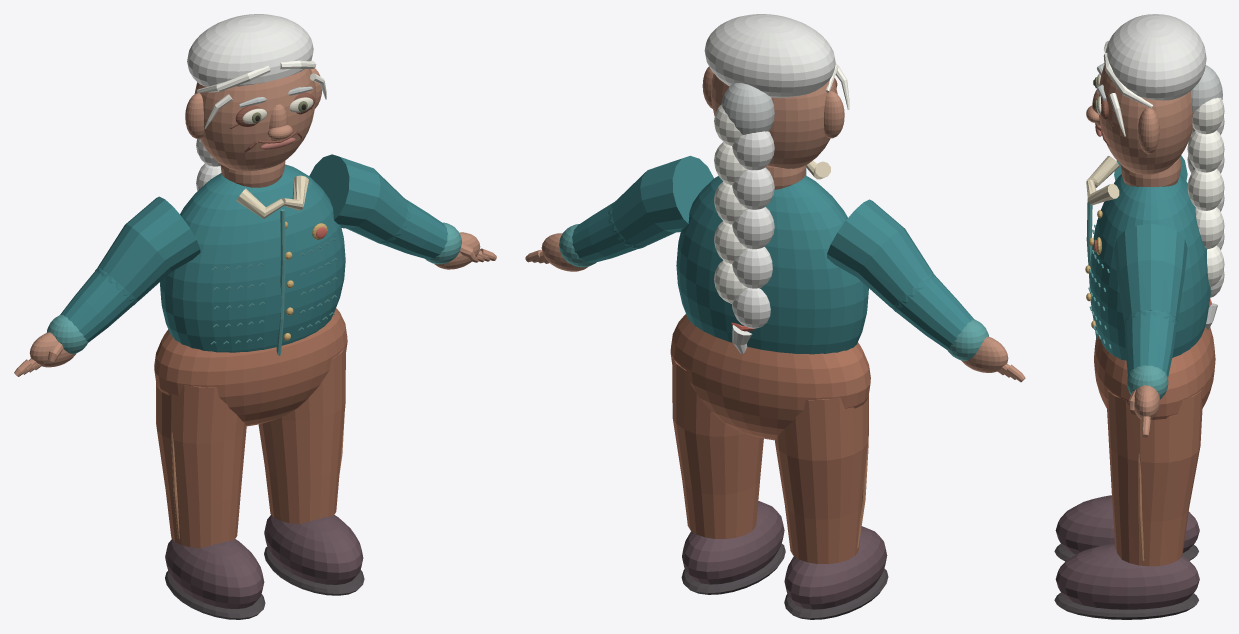
3 views of the same model, side by side, from view 1: azimuth 30°, elevation 25°; view 2: azimuth 150°, elevation 25°; view 3: azimuth 270°, elevation 25° (orthographic). The views are drawn at different scales.
Parts seen in each view (by area): view 1: cardigan torso, right trouser leg, pelvis trousers, left trouser leg, hair cap, head, right upper sleeve, left upper sleeve, right shoe, left shoe, right lower sleeve, left lower sleeve (+8 smaller); view 2: cardigan torso, pelvis trousers, right trouser leg, left trouser leg, hair cap, right upper sleeve, left upper sleeve, left shoe, right shoe, head, right lower sleeve, braid attachment (+16 smaller); view 3: left trouser leg, cardigan torso, hair cap, left shoe, left upper sleeve, head, pelvis trousers, right shoe, left lower sleeve, left sole, braid lobe 04, braid lobe 02 (+16 smaller).
Part boxes in pixels (x1=…): cardigan torso: x1=160, y1=164, x2=345, y2=352; right trouser leg: x1=156, y1=383, x2=246, y2=548; pelvis trousers: x1=154, y1=308, x2=347, y2=426; left trouser leg: x1=258, y1=346, x2=345, y2=523; hair cap: x1=187, y1=14, x2=313, y2=86; head: x1=194, y1=69, x2=316, y2=171; right upper sleeve: x1=97, y1=196, x2=200, y2=301; left upper sleeve: x1=309, y1=154, x2=407, y2=242; right shoe: x1=165, y1=539, x2=264, y2=608; left shoe: x1=264, y1=515, x2=363, y2=584; right lower sleeve: x1=60, y1=270, x2=136, y2=342; left lower sleeve: x1=380, y1=199, x2=447, y2=259; cardigan torso: x1=676, y1=175, x2=868, y2=354; pelvis trousers: x1=670, y1=314, x2=870, y2=440; right trouser leg: x1=775, y1=395, x2=868, y2=564; left trouser leg: x1=672, y1=357, x2=763, y2=538; hair cap: x1=704, y1=14, x2=835, y2=97; right upper sleeve: x1=827, y1=199, x2=933, y2=307; left upper sleeve: x1=612, y1=155, x2=713, y2=246; left shoe: x1=682, y1=501, x2=784, y2=584; right shoe: x1=784, y1=526, x2=887, y2=609; head: x1=711, y1=73, x2=837, y2=168; right lower sleeve: x1=894, y1=275, x2=973, y2=350; braid attachment: x1=721, y1=83, x2=774, y2=134; left trouser leg: x1=1106, y1=390, x2=1202, y2=566; cardigan torso: x1=1090, y1=174, x2=1210, y2=360; hair cap: x1=1105, y1=14, x2=1206, y2=100; left shoe: x1=1055, y1=543, x2=1199, y2=609; left upper sleeve: x1=1114, y1=224, x2=1187, y2=321; head: x1=1098, y1=65, x2=1192, y2=174; pelvis trousers: x1=1094, y1=327, x2=1215, y2=419; right shoe: x1=1055, y1=495, x2=1199, y2=554; left lower sleeve: x1=1124, y1=313, x2=1177, y2=377; left sole: x1=1054, y1=592, x2=1198, y2=619; braid lobe 04: x1=1187, y1=169, x2=1224, y2=210; braid lobe 02: x1=1187, y1=130, x2=1224, y2=172.
Size of the model in its own units: 1.75 by 1.94 by 0.531.
